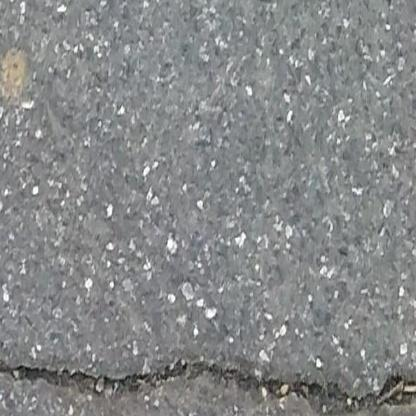Cracks: (0, 350, 416, 416)
